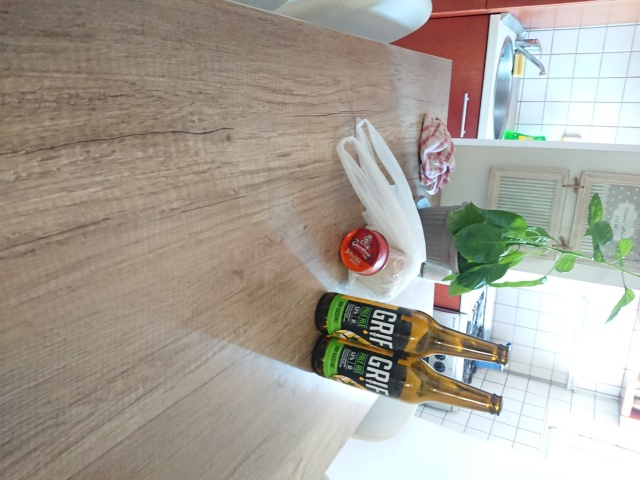Gavrilovic Pork Liver Pate 100g: (336, 226, 390, 277)
